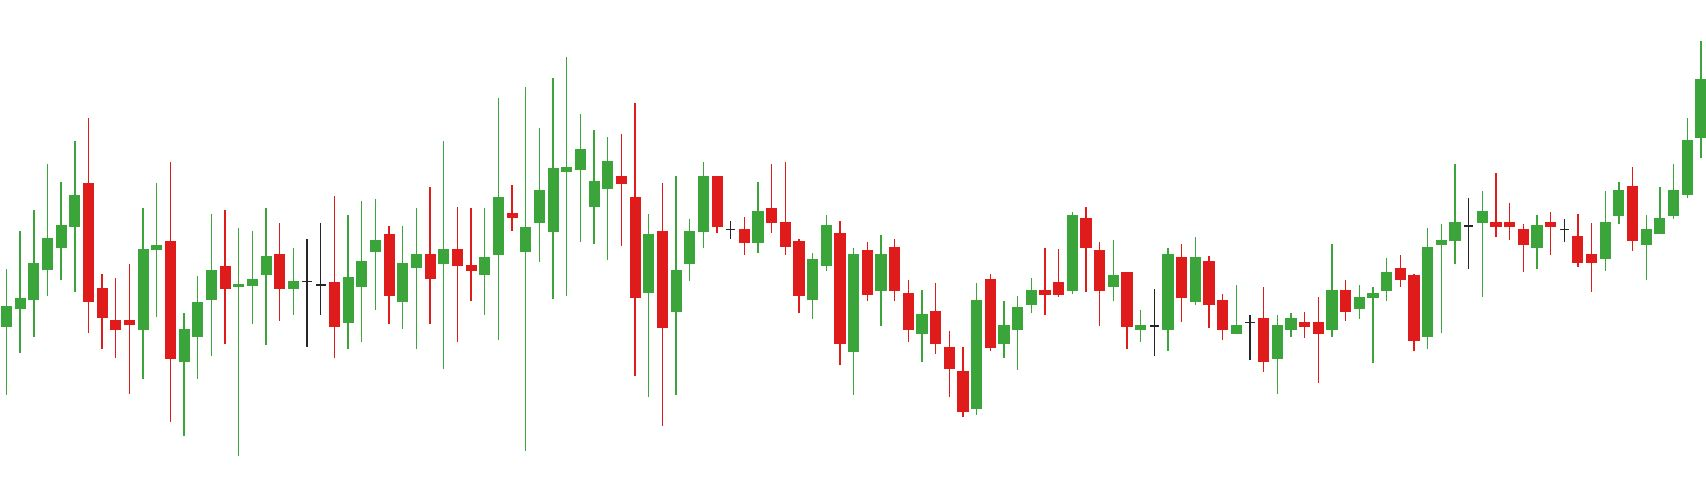buy: (842, 285, 987, 423)
